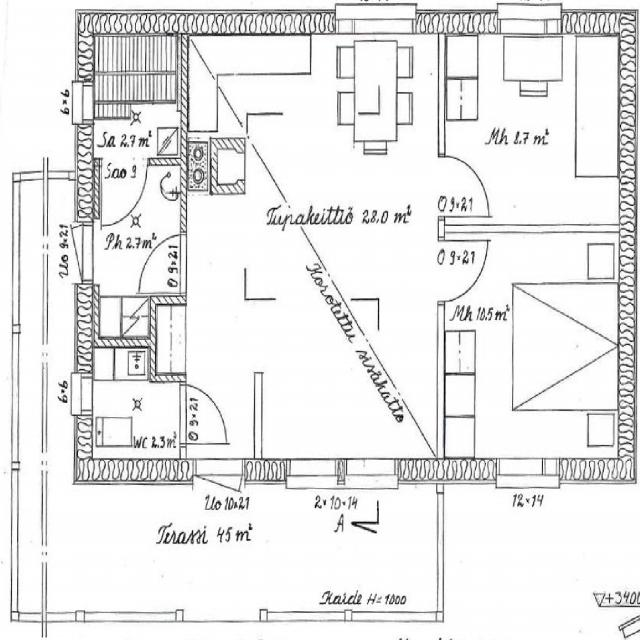door: (196, 458, 243, 538), (101, 158, 148, 228), (437, 240, 490, 301), (437, 156, 489, 216), (41, 224, 93, 279), (137, 235, 186, 292), (180, 385, 228, 443)
